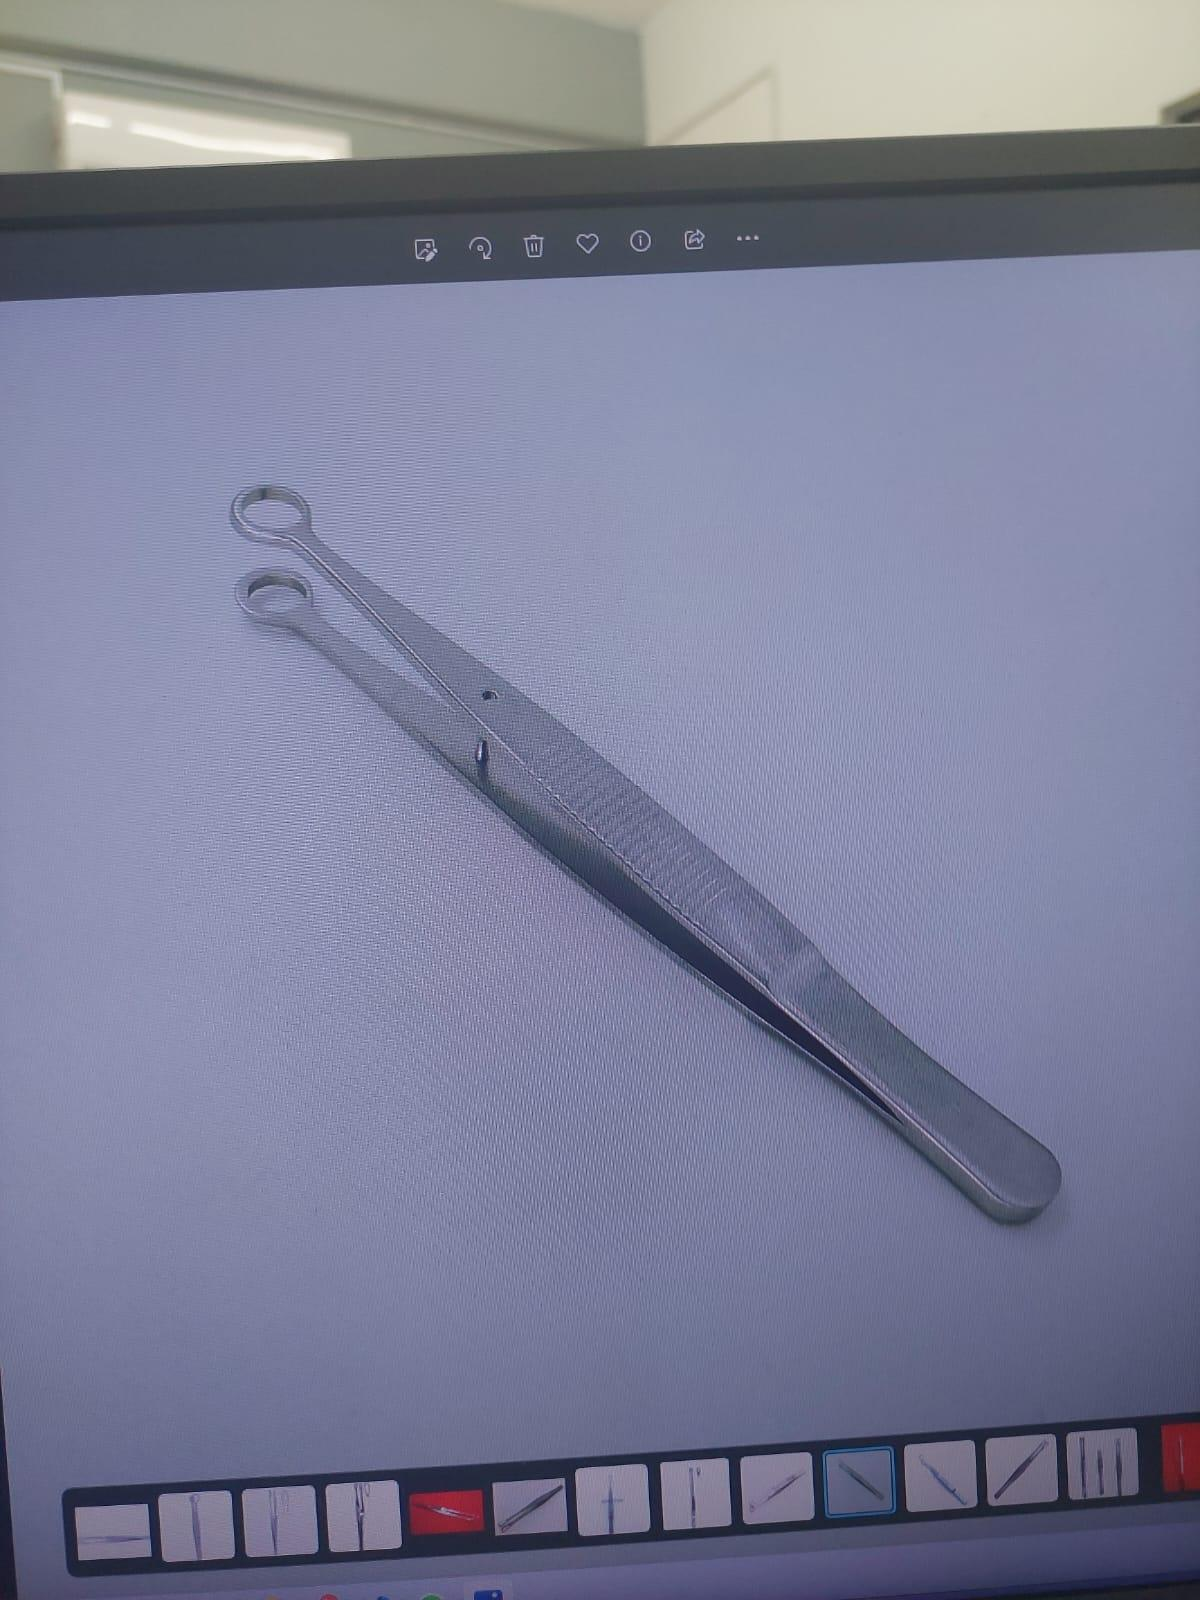Eye Intestinal Forceps: (195, 465, 1095, 1255)
